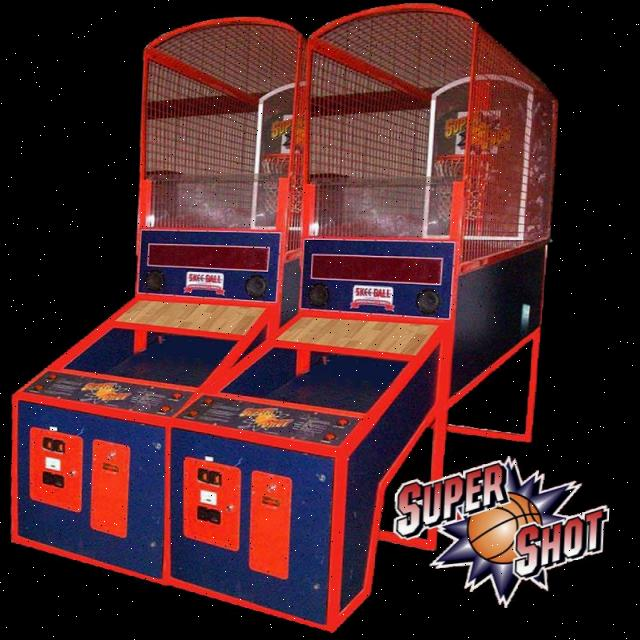hoop: (433, 153, 499, 220), (261, 154, 312, 214)
